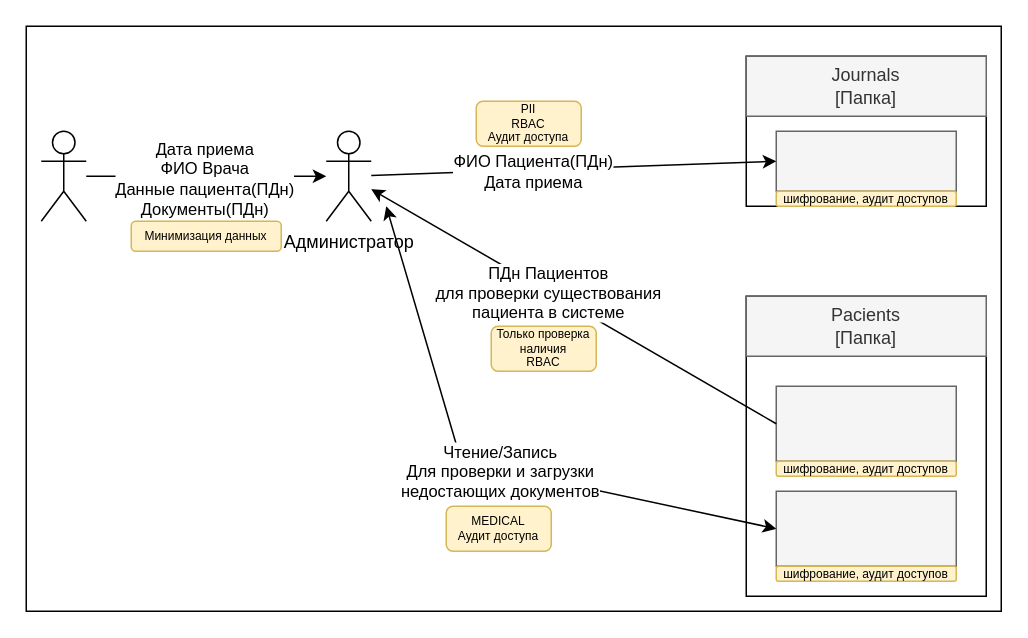
Some shapes in this 1028 by 638 pixel diagram are drawn without their labels. Each missing label, with the box of its shape:
Журнал-ФИО Врача [Excel]: (775, 130, 956, 191)
Пациент: (40, 130, 86, 221)
Список пациентов [Excel]: (775, 385, 956, 461)
Файлы пациента в разных форматах: (775, 490, 956, 566)
